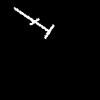double_crochet: (14, 7, 53, 38)
